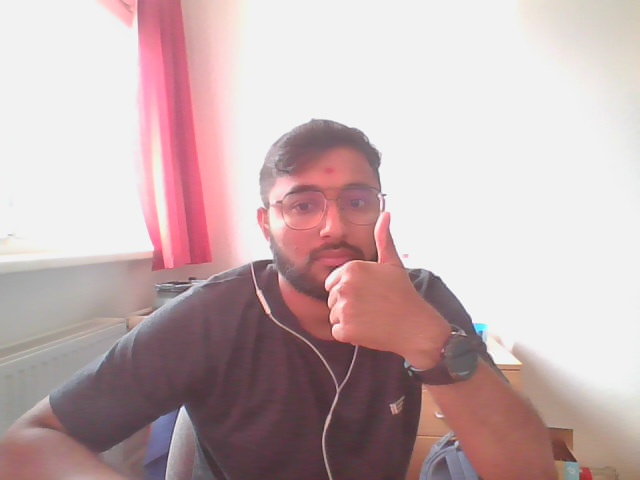ThumbsUp: (322, 209, 419, 358)
